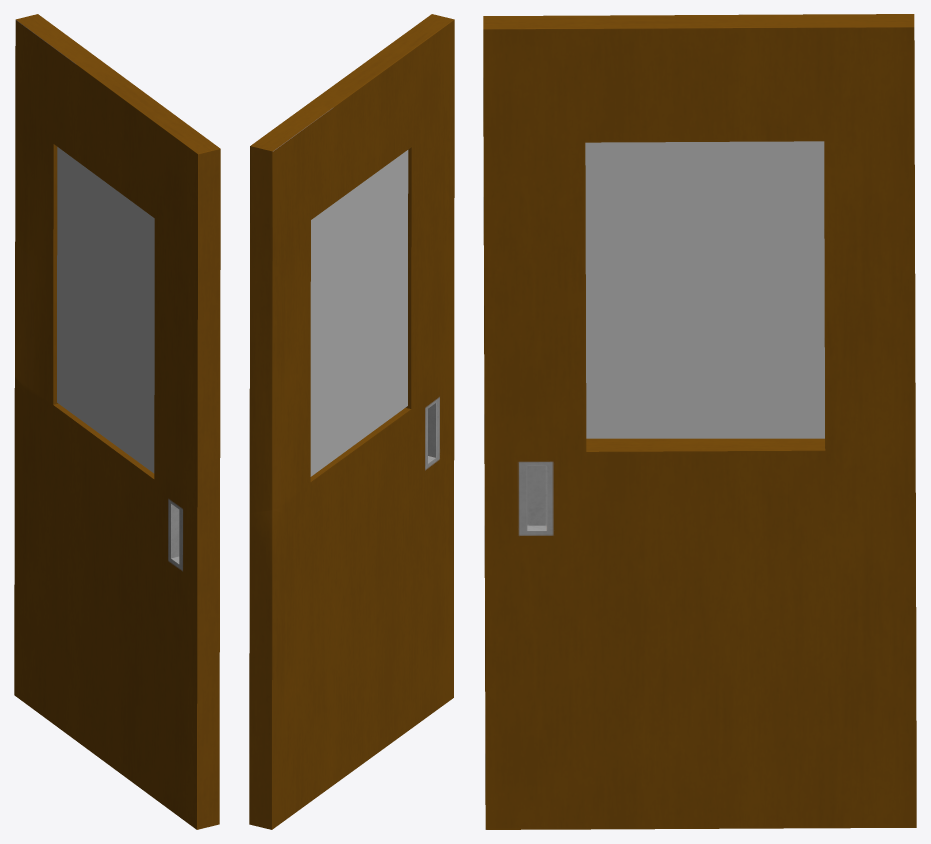
File: SM_Classroom_10.fbx
The picture shows the model from 3 angles, left to right: view 1: azimuth 30°, elevation 25°; view 2: azimuth 150°, elevation 25°; view 3: azimuth 270°, elevation 25°; orthographic projection. The views are drawn at different scales.
Parts seen in each view (by area): view 1: SM_Classroom_10; view 2: SM_Classroom_10; view 3: SM_Classroom_10.
Part boxes in pixels (x1,y1,x2,y2): SM_Classroom_10: (14,14,220,829); SM_Classroom_10: (249,14,454,829); SM_Classroom_10: (483,14,916,829).
Bounding box in the file's own units: 7.45 × 101 × 207.
